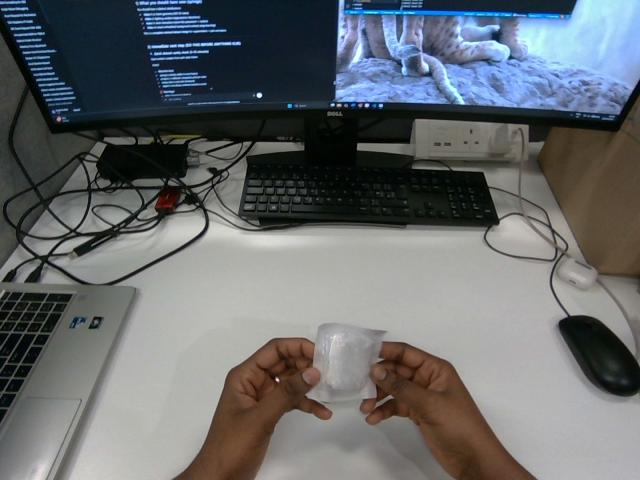gauze: (308, 323, 385, 401)
